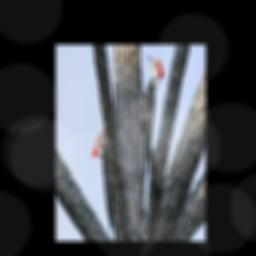Woodpecker: (140, 55, 163, 185), (92, 118, 116, 236)
